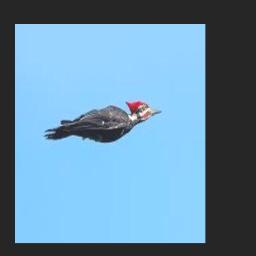Woodpecker: (43, 99, 161, 143)
